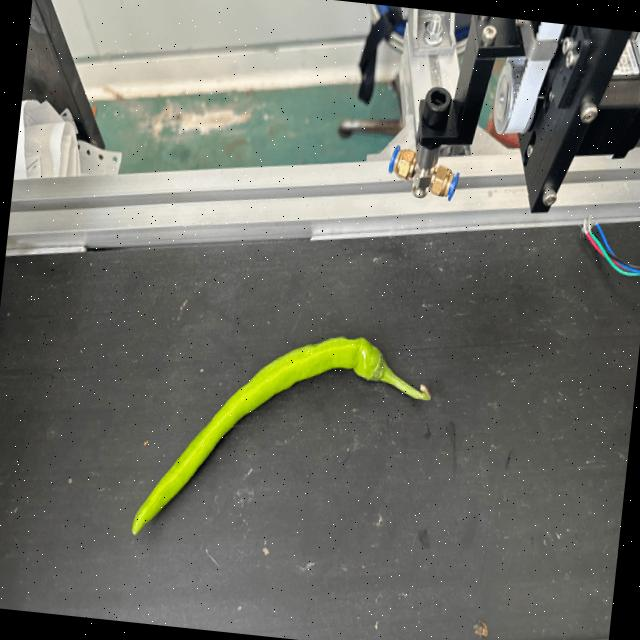chili: (127, 333, 386, 540)
